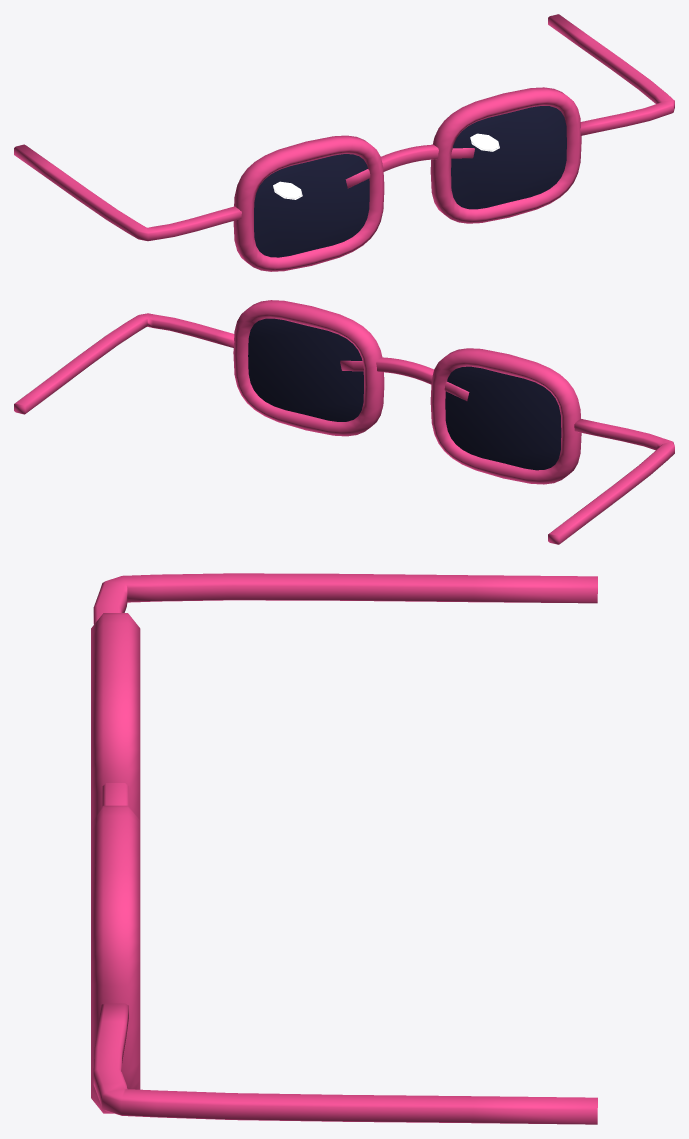
The model's file is sunglasses-pig.glb.
3 renders of one model, top to bottom at view 1: azimuth 30°, elevation 25°; view 2: azimuth 150°, elevation 25°; view 3: azimuth 270°, elevation 25°, orthographic. The views are drawn at different scales.
Visible parts, largest first — view 1: lens, lens.001, rim, rim.001, temple.001, temple, bridge, shine, shine.001; view 2: lens.001, lens, rim.001, rim, temple, temple.001, bridge; view 3: temple, temple.001, rim, rim.001.
Boxes of the visible parts, x1=… form: lens: x1=451, y1=106, x2=566, y2=209; lens.001: x1=254, y1=154, x2=369, y2=257; rim: x1=430, y1=87, x2=581, y2=223; rim.001: x1=233, y1=135, x2=384, y2=271; temple.001: x1=14, y1=144, x2=241, y2=241; temple: x1=548, y1=14, x2=674, y2=135; bridge: x1=345, y1=144, x2=474, y2=188; shine: x1=470, y1=133, x2=499, y2=151; shine.001: x1=273, y1=181, x2=302, y2=199; lens.001: x1=445, y1=366, x2=561, y2=470; lens: x1=248, y1=318, x2=363, y2=421; rim.001: x1=430, y1=348, x2=581, y2=484; rim: x1=233, y1=300, x2=384, y2=436; temple: x1=14, y1=313, x2=234, y2=414; temple.001: x1=548, y1=419, x2=674, y2=544; bridge: x1=340, y1=357, x2=469, y2=400; temple: x1=93, y1=1003, x2=597, y2=1124; temple.001: x1=93, y1=573, x2=597, y2=624; rim: x1=91, y1=805, x2=140, y2=1113; rim.001: x1=91, y1=613, x2=140, y2=820.
Size of the model in its own units: 1.33 by 0.2784 by 0.5342.
